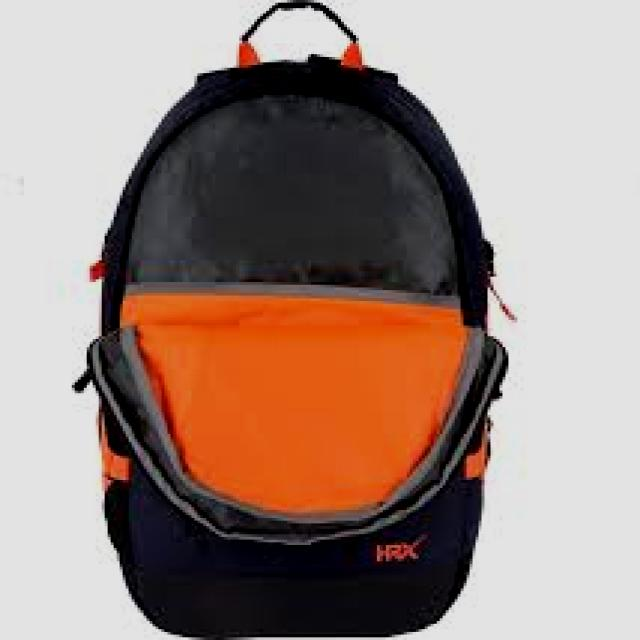backpack: (72, 1, 512, 638)
